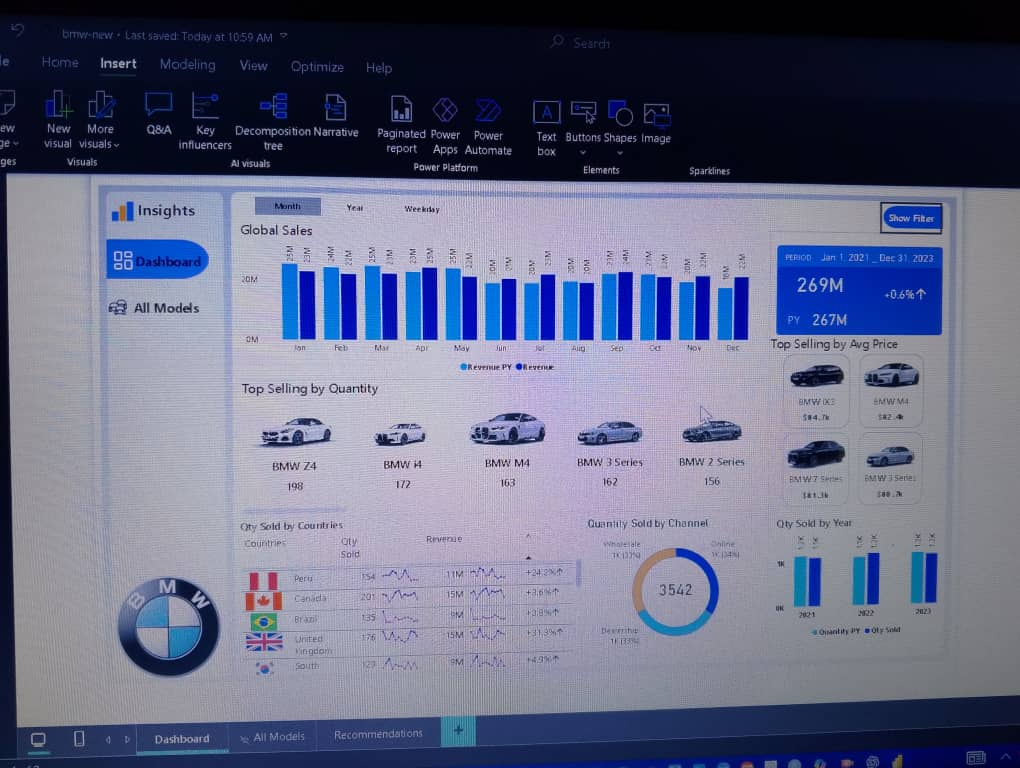

The dashboard page shown, as its layout file describes it:
{"tool":"powerbi","page":{"name":"Dashboard","canvas":[1300,834],"ordinal":0},"visuals":[{"type":"lineClusteredColumnComboChart","title":"Global Sales","fields":{"Category":["Calender.Month"],"Y":["All Measures.Revenue"],"Y2":["All Measures.Revenue PY"]},"box":[205.6,102.1,786.5,229.1],"z":0},{"type":"slicer","fields":{"Values":["preiod.preiod"]},"box":[205.6,62.1,336.7,40],"z":1000},{"type":"cardVisual","fields":{"Data":["All Measures.Revenue"]},"box":[1012.8,157.3,110.4,66.2],"z":2000},{"type":"card","fields":{"Values":["All Measures.Revenue PY"]},"box":[1041.8,216.6,74.5,49.7],"z":3000},{"type":"card","fields":{"Values":["All Measures.Revenue % with Arrow"]},"box":[1163.3,167,91.1,74.5],"z":4000},{"type":"card","fields":{"Values":["All Measures.Selected Period"]},"box":[1051.5,128.3,224.9,40],"z":5000},{"type":"textbox","box":[1012.8,133.9,77.3,34.5],"z":6000},{"type":"advancedSlicerVisual","title":"Top Selling by Quantity ","fields":{"Values":["dimModel.Model"]},"box":[205.6,331.2,786.5,202.8],"z":7000},{"type":"advancedSlicerVisual","title":"Top Selling by Avg Price","fields":{"Values":["dimModel.Model"]},"box":[992.1,266.3,274.6,267.7],"z":8000},{"type":"textbox","box":[1003.2,226.3,38.6,40],"z":9000},{"type":"clusteredColumnChart","title":"Qty Sold by Year","fields":{"Category":["Calender.Year"],"Y":["All Measures.Quantity PY","All Measures.Quantity"]},"box":[1002.6,540.8,273.7,200],"z":10000},{"type":"donutChart","title":"Quantity Sold by Channel","fields":{"Category":["dimChannel.Channel"],"Y":["All Measures.Quantity"]},"box":[713.4,540.9,278.7,209.7],"z":11000},{"type":"card","fields":{"Values":["All Measures.Quantity"]},"box":[772.7,594.7,160.1,113.2],"z":12000},{"type":"tableEx","title":"Qty Sold by Countries","fields":{"Values":["dimCountry.Countries with Flags URL.Flag","dimCountry.Country","All Measures.Quantity","All Measures.Quantity Sparkline","All Measures.Revenue","All Measures.Revenue Sparkline","All Measures.Growth % with Arrow"]},"box":[201.3,534.2,511.8,234.2],"z":13000},{"type":"image","box":[0,610.5,202,161],"z":14000},{"type":"textbox","box":[56.6,144.7,117.1,46.1],"z":15000},{"type":"image","box":[23.7,140.8,42.1,40.8],"z":16000},{"type":"actionButton","box":[15.8,140.8,148.7,50],"z":17000},{"type":"image","box":[15.8,210.5,42.1,35.5],"z":18000},{"type":"textbox","box":[53.9,210.5,122.4,36.8],"z":19000},{"type":"actionButton","box":[0,207.9,176.3,57.9],"z":20000},{"type":"actionButton","box":[315.8,102.6,43.4,42.1],"z":21000},{"type":"actionButton","box":[1167.1,63.2,100,48.7],"z":23000},{"type":"textbox","box":[60.5,68.4,115.8,46.1],"z":24000},{"type":"image","box":[19.7,68.4,50,43.4],"z":25000},{"type":"textbox","box":[1003.2,175.2,69,48.3],"z":25001},{"type":"textbox","box":[1028,222.2,51.1,40],"z":25002}]}

Visuals, with their boxes on the page's 1300x834 design canvas (x1, y1, x2, y2). These are canvas units, not pixel positions in the 1020x768 screenshot, which may show the page scaled, cropped or inside an application window:
"Global Sales" lineClusteredColumnComboChart: 206:102:992:331
slicer - preiod.preiod: 206:62:542:102
cardVisual - All Measures.Revenue: 1013:157:1123:224
card - All Measures.Revenue PY: 1042:217:1116:266
card - All Measures.Revenue % with Arrow: 1163:167:1254:242
card - All Measures.Selected Period: 1052:128:1276:168
textbox: 1013:134:1090:168
"Top Selling by Quantity " advancedSlicerVisual: 206:331:992:534
"Top Selling by Avg Price" advancedSlicerVisual: 992:266:1267:534
textbox: 1003:226:1042:266
"Qty Sold by Year" clusteredColumnChart: 1003:541:1276:741
"Quantity Sold by Channel" donutChart: 713:541:992:751
card - All Measures.Quantity: 773:595:933:708
"Qty Sold by Countries" tableEx: 201:534:713:768
image: 0:610:202:772
textbox: 57:145:174:191
image: 24:141:66:182
actionButton: 16:141:164:191
image: 16:210:58:246
textbox: 54:210:176:247
actionButton: 0:208:176:266
actionButton: 316:103:359:145
actionButton: 1167:63:1267:112
textbox: 60:68:176:114
image: 20:68:70:112
textbox: 1003:175:1072:224
textbox: 1028:222:1079:262
